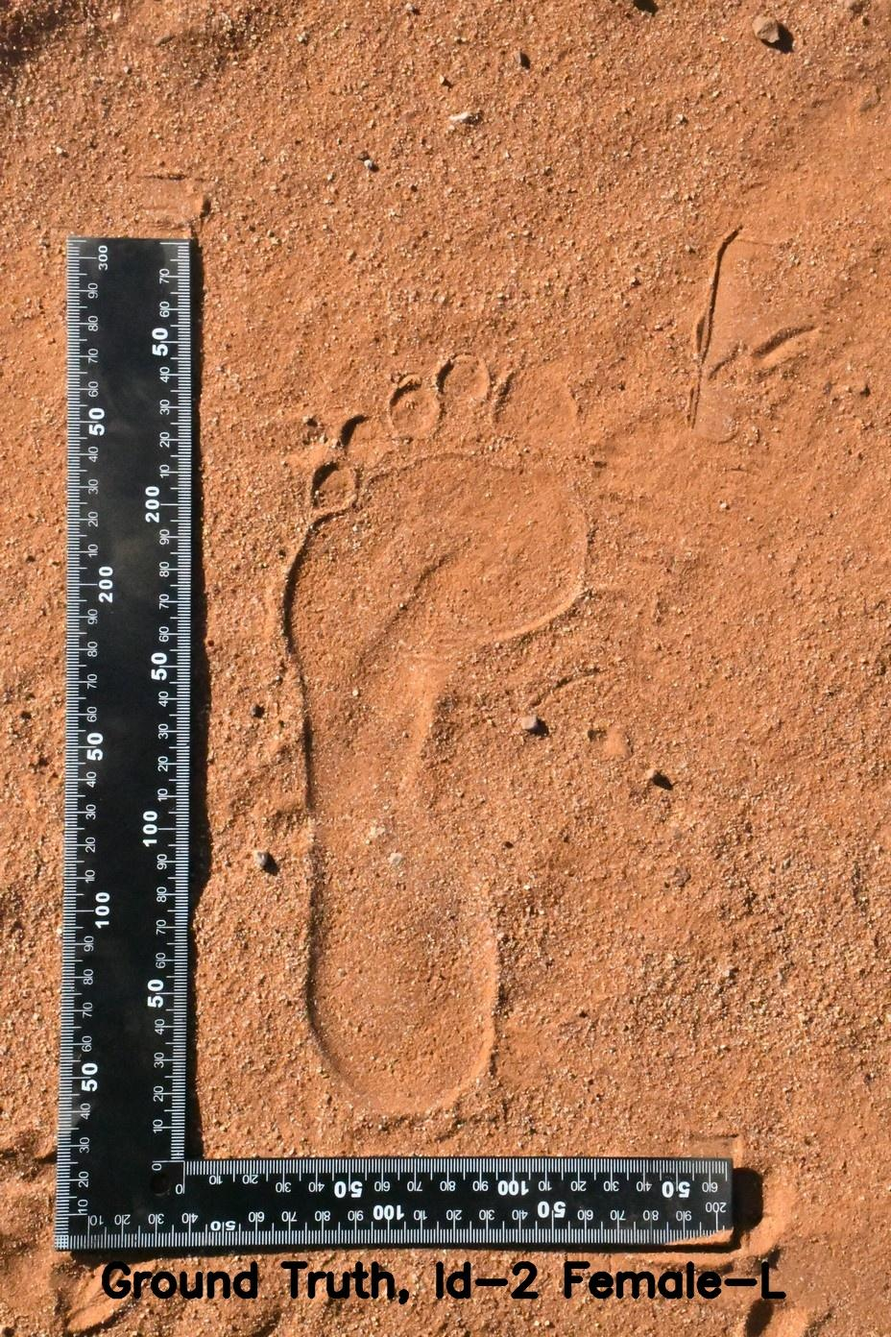human_footprint: (228, 298, 657, 1123)
